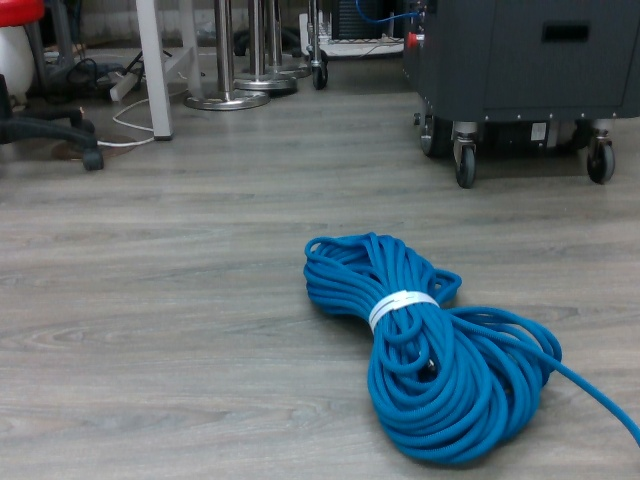rope: (299, 224, 565, 476)
